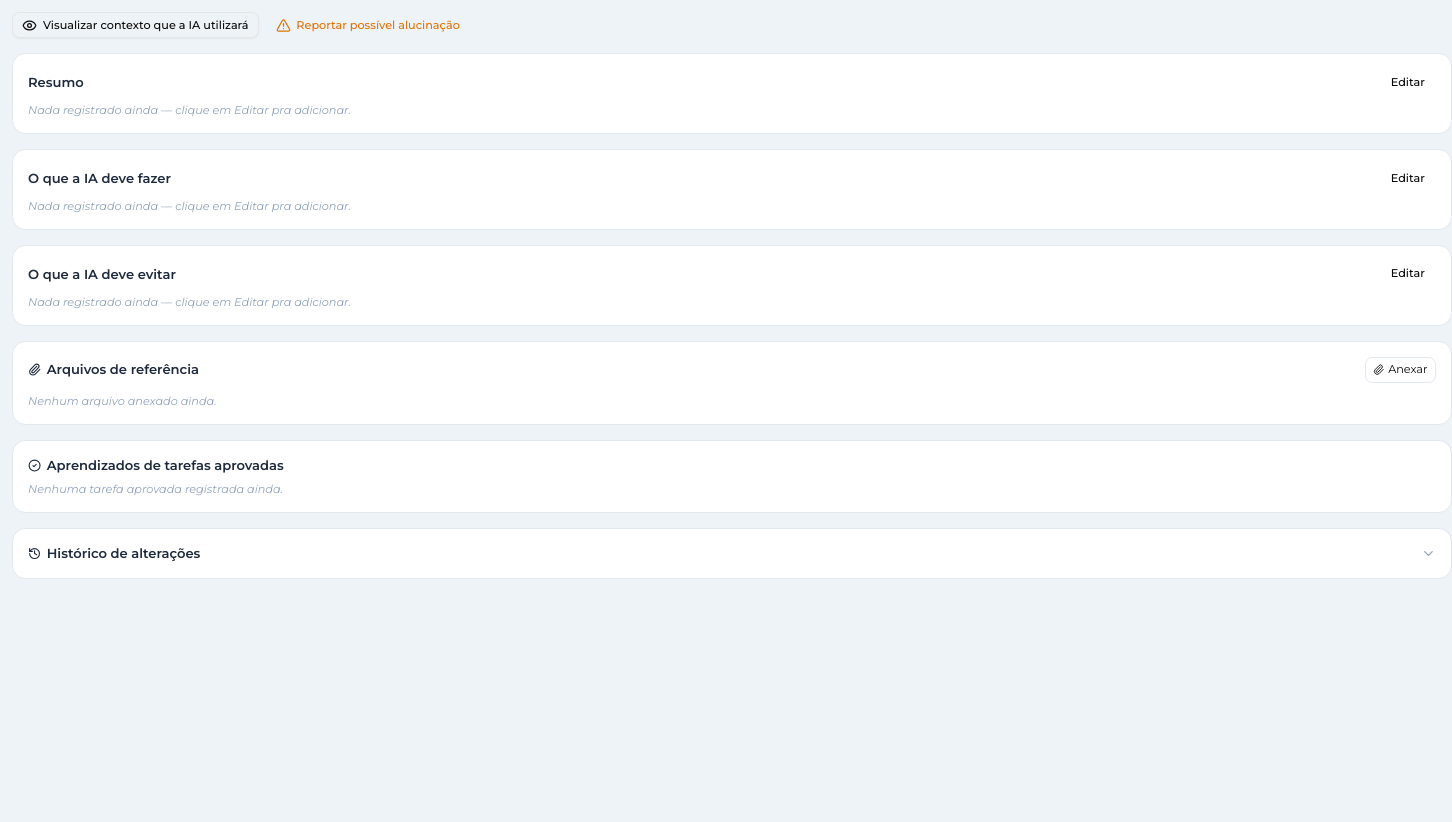
Test case: MemoryPanel › histórico: só busca ao expandir (colapsado por padrão) e mostra os eventos reais
Later steps or results of the test are not shown.
Expected: the heading "Resumo" is shown, [28,73,84,92]
Click the button "Histórico de alterações". click: (124,553)
box: [28,544,1436,563]
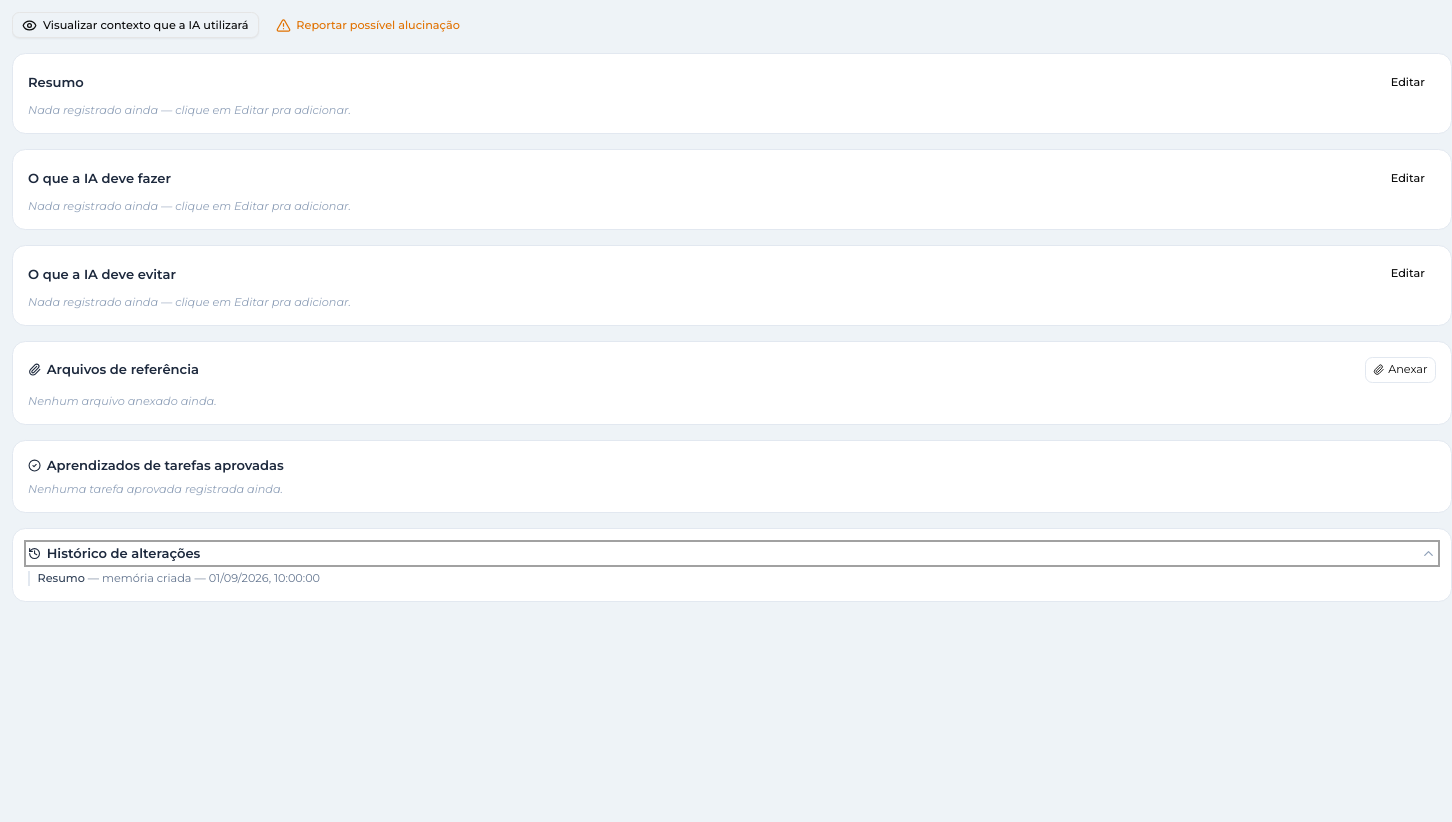
Now the list item "Resumo — memória criada — 01/09/2026, 10:00:00" is shown, box [28,570,1436,586]
